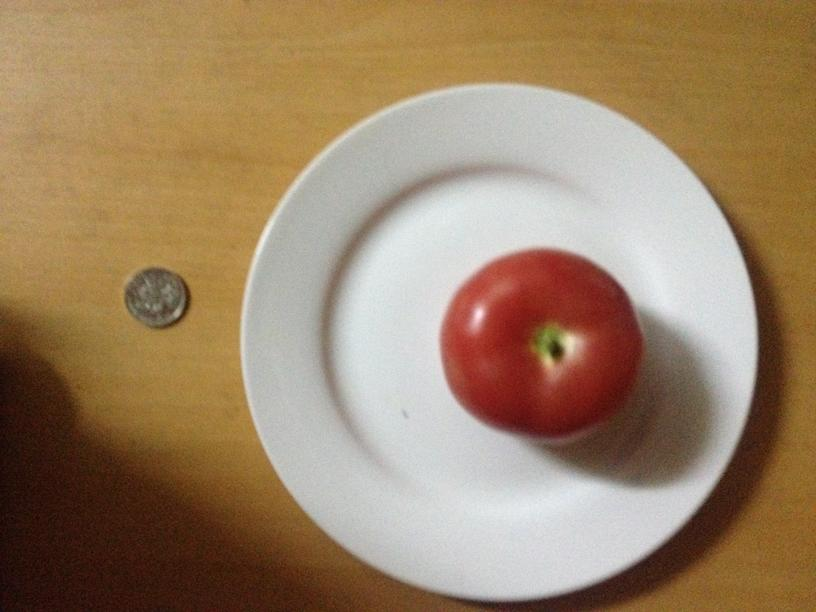coin: (121, 264, 192, 328)
tomato: (437, 244, 642, 445)
